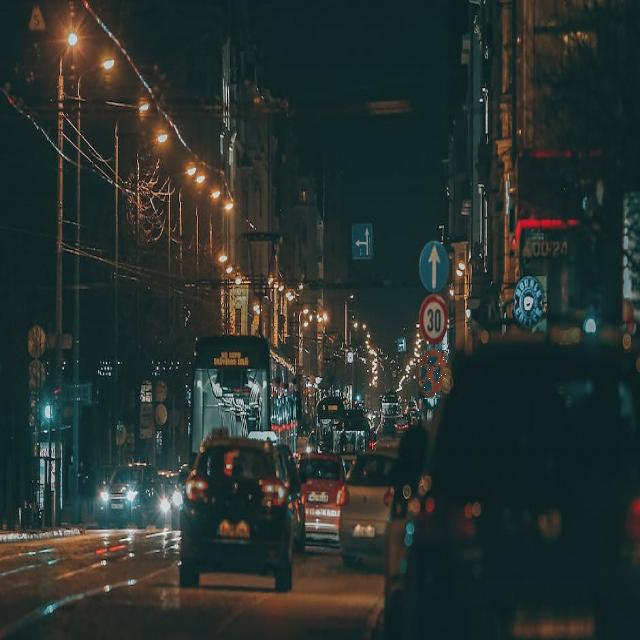no entry: (419, 350, 446, 399)
